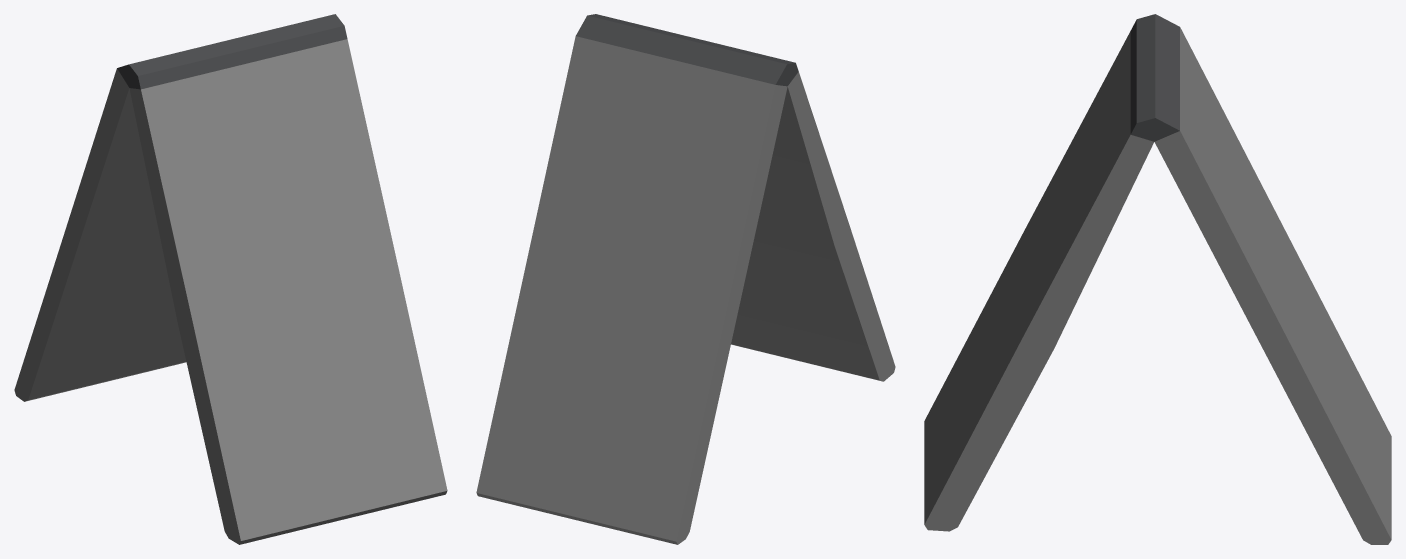
Rendered from Folding Sign Textured.FBX.
3 renders of one model, left to right at view 1: azimuth 30°, elevation 25°; view 2: azimuth 150°, elevation 25°; view 3: azimuth 270°, elevation 25°, orthographic. The views are drawn at different scales.
Visible parts, largest first — view 1: Folding Sign; view 2: Folding Sign; view 3: Folding Sign.
Part boxes in pixels (x1,y1,x2,y2): Folding Sign: (14, 14, 447, 544); Folding Sign: (476, 14, 895, 544); Folding Sign: (924, 14, 1391, 544).
Size of the model in its own units: 2.78 by 5.32 by 5.28.
Materials: 2 (2 with a texture image).
